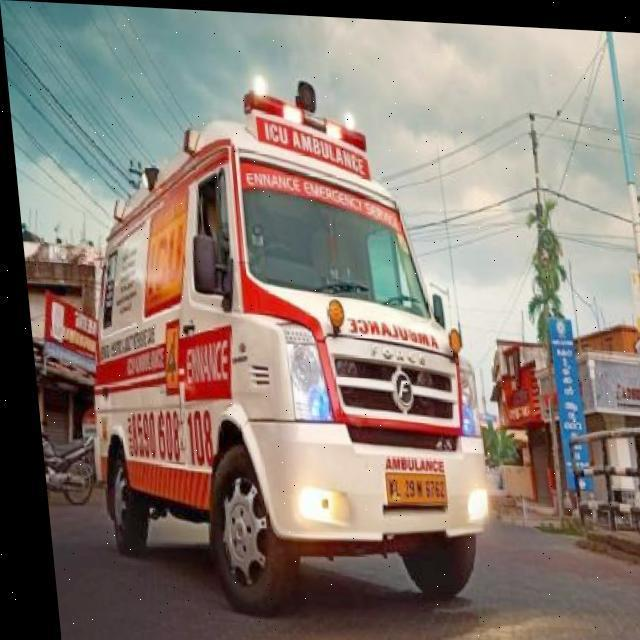Ambulance: (52, 63, 496, 624), (36, 472, 640, 640)
